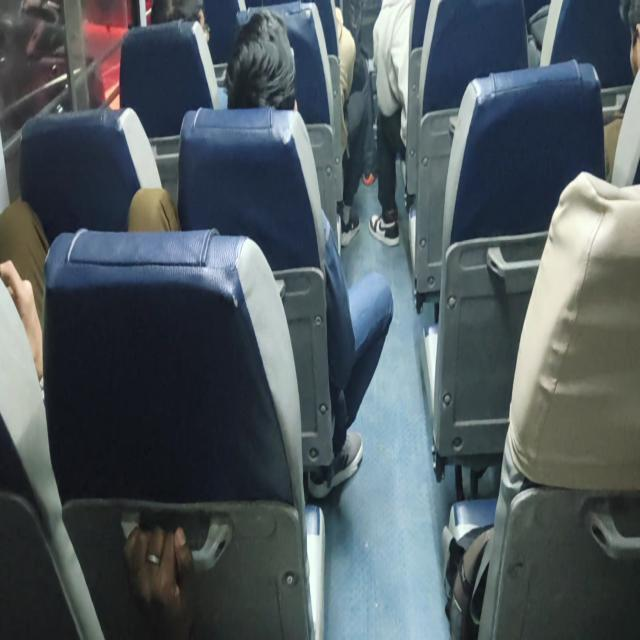person: (233, 31, 301, 124), (596, 0, 640, 72), (148, 0, 216, 43)
